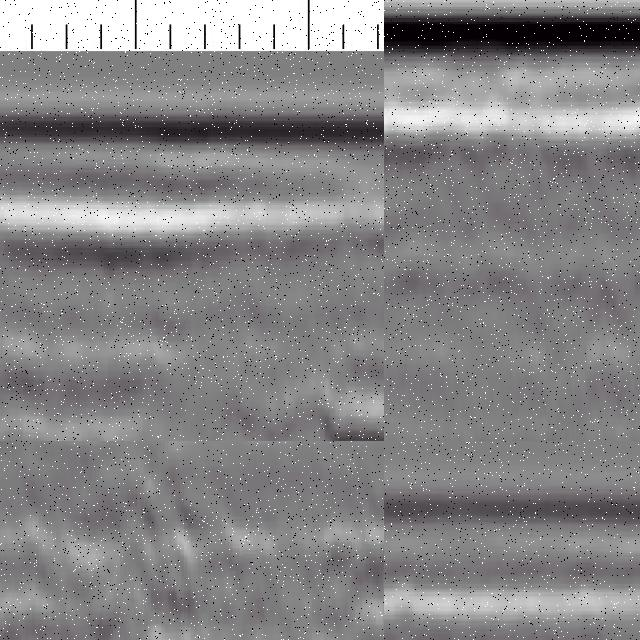loose: (385, 120, 463, 286)
